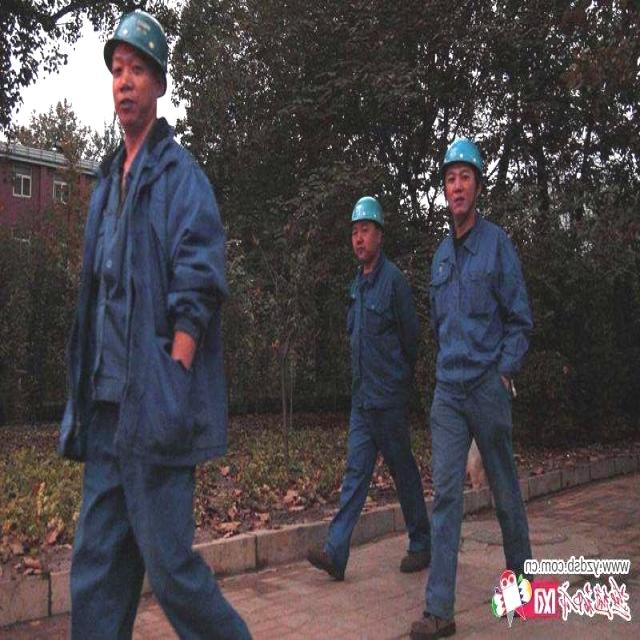face_nomask: (107, 47, 161, 124), (445, 162, 478, 228), (352, 218, 378, 268)
head_helmet: (105, 11, 167, 72), (446, 137, 481, 160), (351, 196, 384, 218)
person: (73, 14, 216, 640), (424, 137, 507, 636), (317, 191, 408, 574)
shoes: (410, 594, 457, 640), (306, 539, 351, 584), (400, 535, 440, 582)
